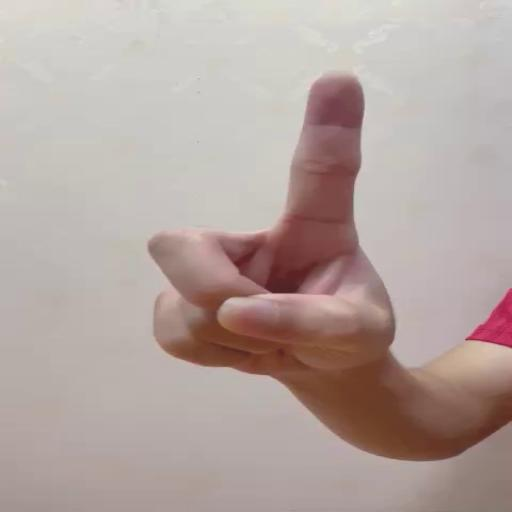point: (146, 70, 370, 372)
